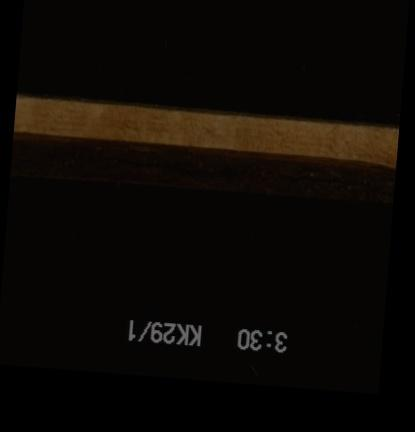wave: (11, 140, 394, 188)
